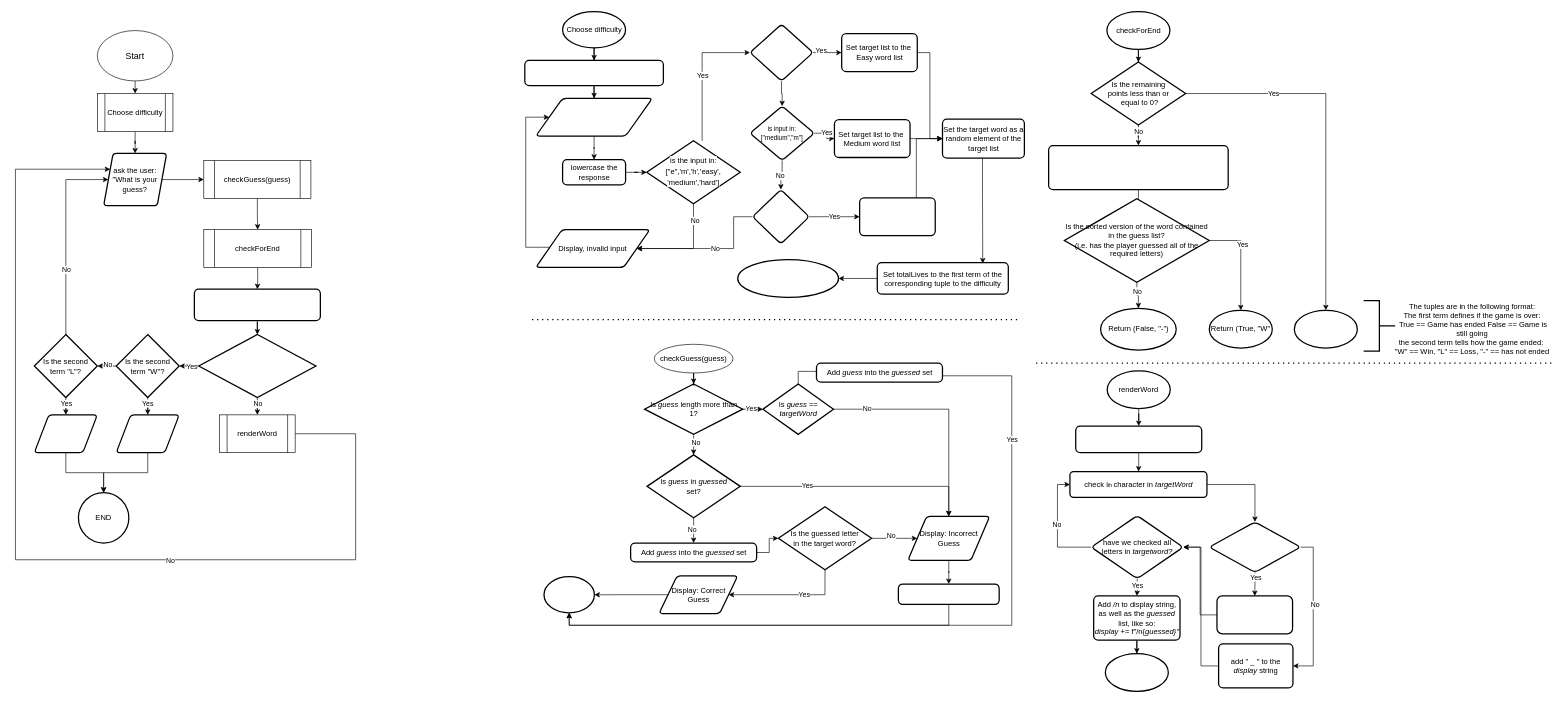
Image size: 1565x702. Some labels were removed from this diagram. The shapes that lost their labels are listed below. From the top down, each one's centre as x and y in pixels, then its label:
pixel 781 52: is input in: [''easy","e"]
pixel 594 73: {Define difficulty:(maxPoints,word list)} dictionary
pixel 594 116: Ask for which difficulty player wants:
pixel 1138 167: sort the word alphabetically, and sort the guess list alphabetically
pixel 781 216: is input in: [''hard","h"]
pixel 897 216: Set target list to the Hard word list
pixel 788 278: Return (totalLives,targetWord)
pixel 257 304: Store tuple in a variable
pixel 1325 328: Return (True, "L"
pixel 257 366: if first term of tuple is True
pixel 65 433: Display "You lost"
pixel 147 433: Display "You Won"
pixel 1138 439: Create empty string called display
pixel 1254 547: Is charactar in the guessed charactars
pixel 569 594: return
pixel 948 594: Deduct 10 points
pixel 1254 614: add f" {charactar} " to the display string
pixel 1136 672: return display
